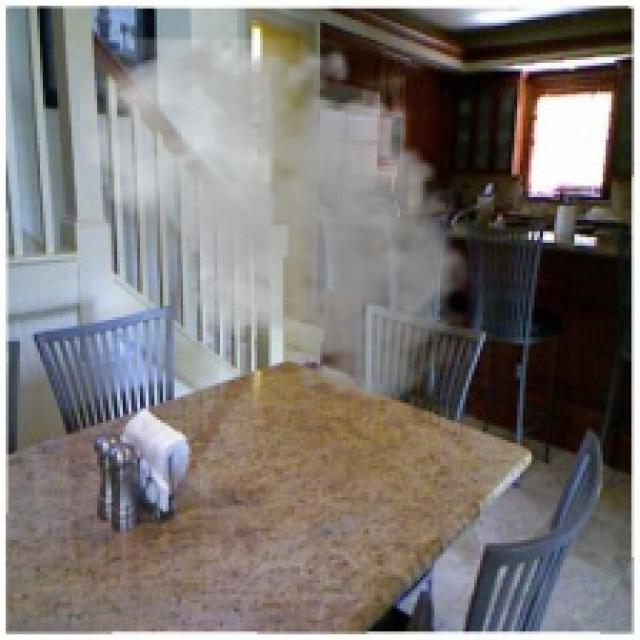smoke: (80, 23, 486, 408)
